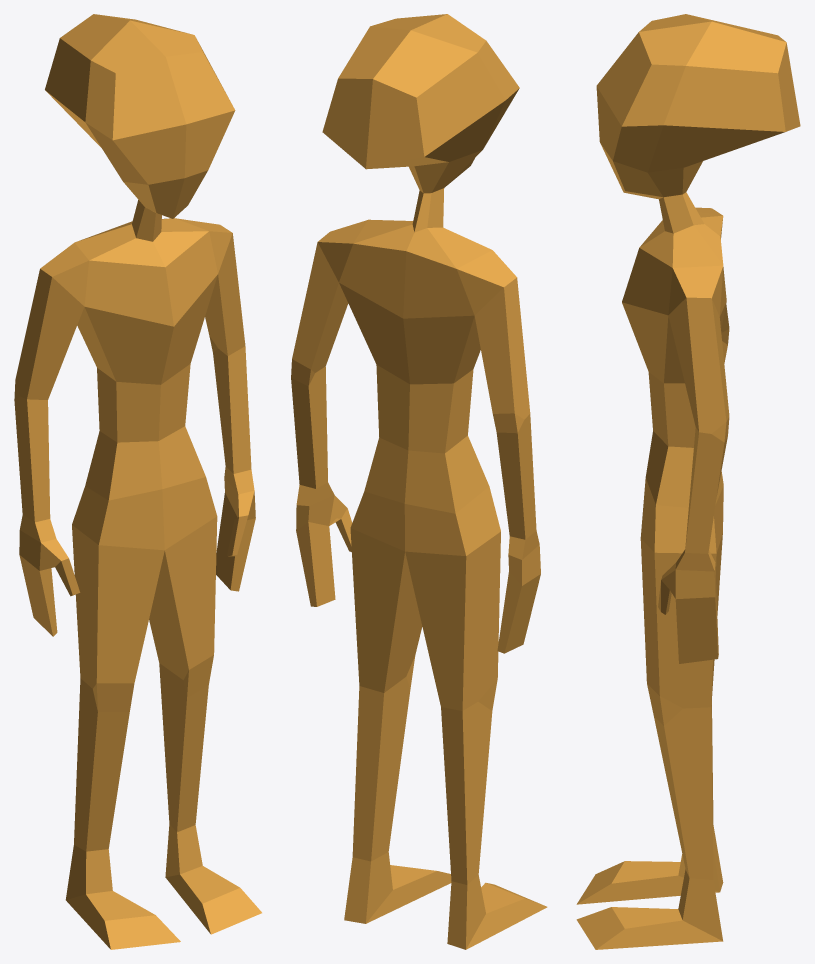
The model's file is 061_Alien.fbx.
The picture shows the model from 3 angles, left to right: view 1: azimuth 30°, elevation 25°; view 2: azimuth 150°, elevation 25°; view 3: azimuth 270°, elevation 25°; orthographic projection. The views are drawn at different scales.
Visible parts, largest first — view 1: ALIEN; view 2: ALIEN; view 3: ALIEN.
Part boxes in pixels (x1,y1,x2,y2): ALIEN: (14, 14, 261, 949); ALIEN: (291, 14, 547, 949); ALIEN: (576, 14, 800, 949).
Bounding box in the file's own units: 33.59 × 127 × 29.01.
